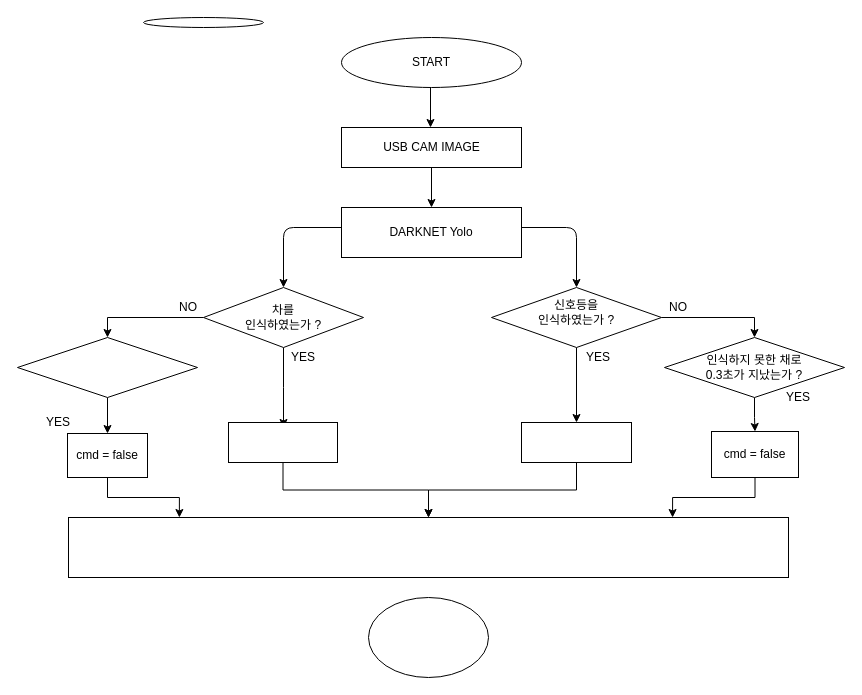
This 862x695 diagram has some shape labels left out. The box of each missing label's shape, as (x1, y1, x2, y2) in pixels:
car_detect = true: (228, 422, 338, 462)
carControl Node: (68, 516, 788, 578)
traffic_cmd = true: (520, 422, 632, 462)
인식하지 못한 채로 0.3 초가 지났는가 ?: (16, 336, 198, 398)
